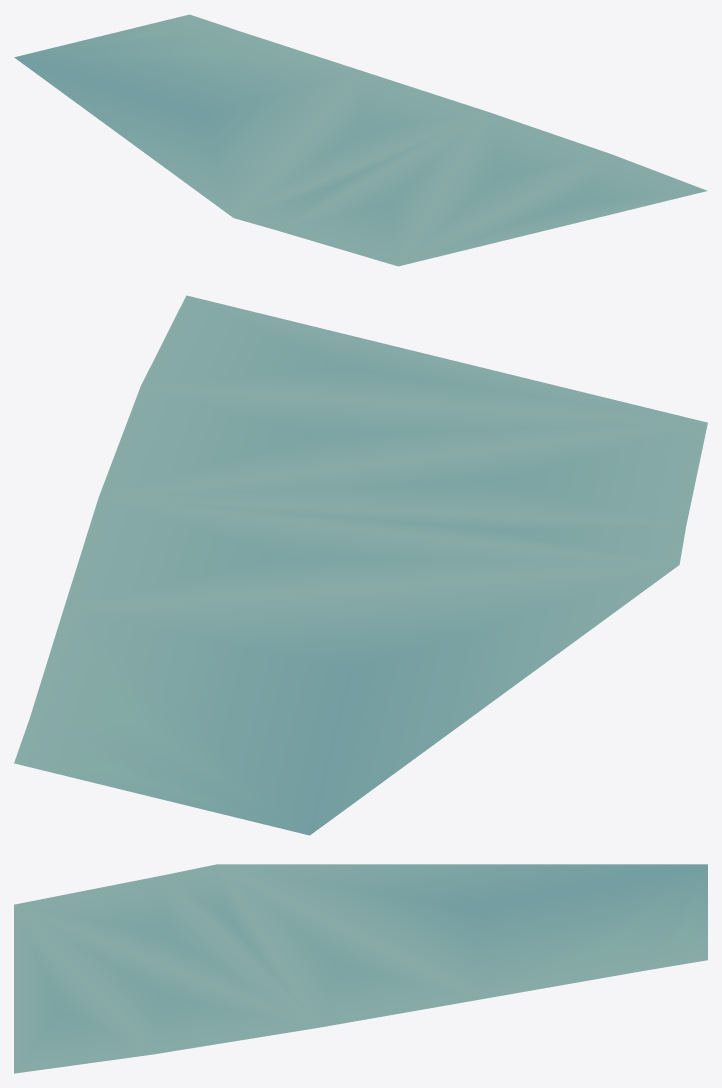
Rendered from water-14-8.glb.
3 views of the same model, one above another, from view 1: azimuth 30°, elevation 25°; view 2: azimuth 150°, elevation 25°; view 3: azimuth 270°, elevation 25° (orthographic). The views are drawn at different scales.
Size of the model in its own units: 11.42 by 0 by 16.
